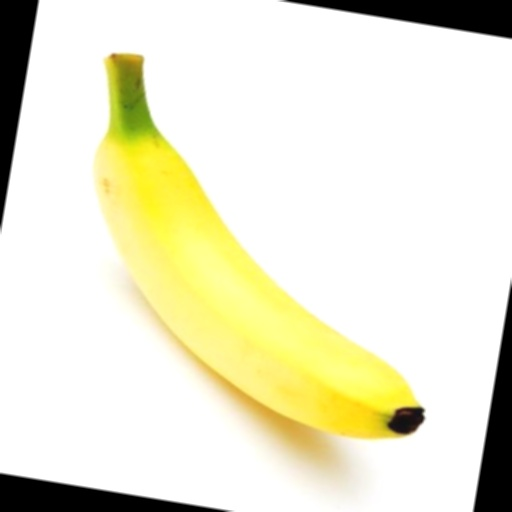fruit: (359, 225, 485, 512)
